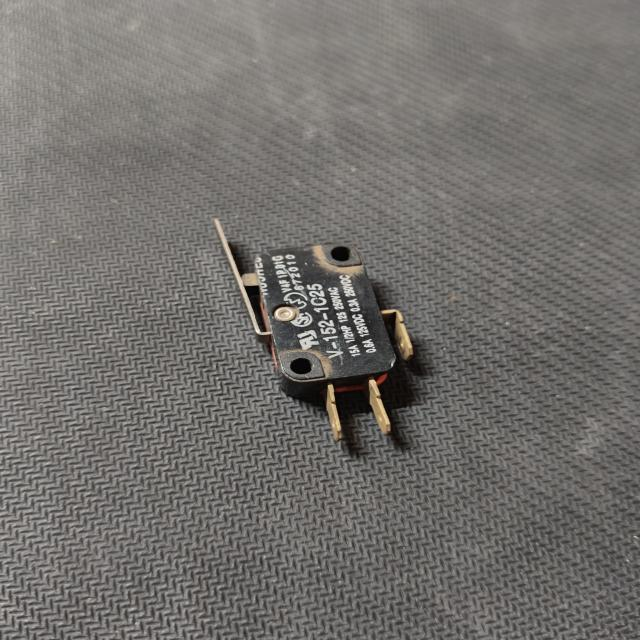switch: (206, 205, 429, 458)
